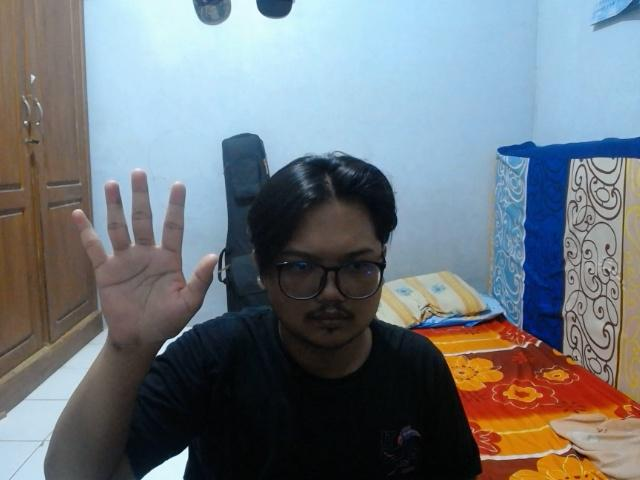Release: (67, 164, 226, 354)
